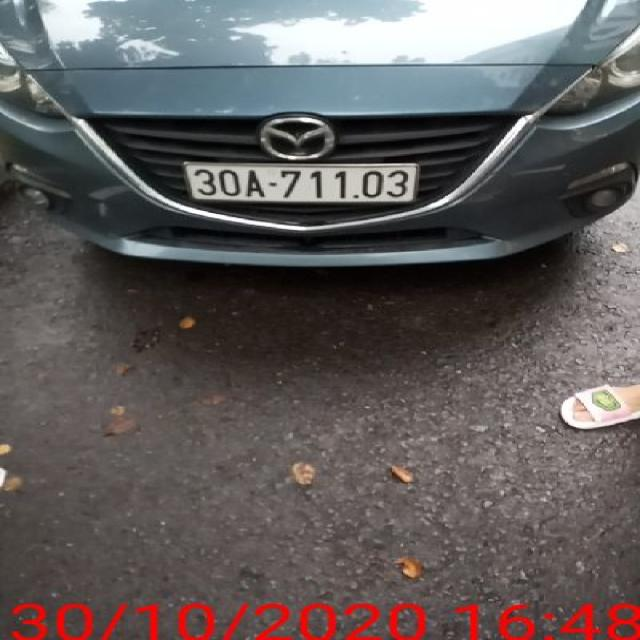biensoxehoi: (183, 164, 426, 201)
